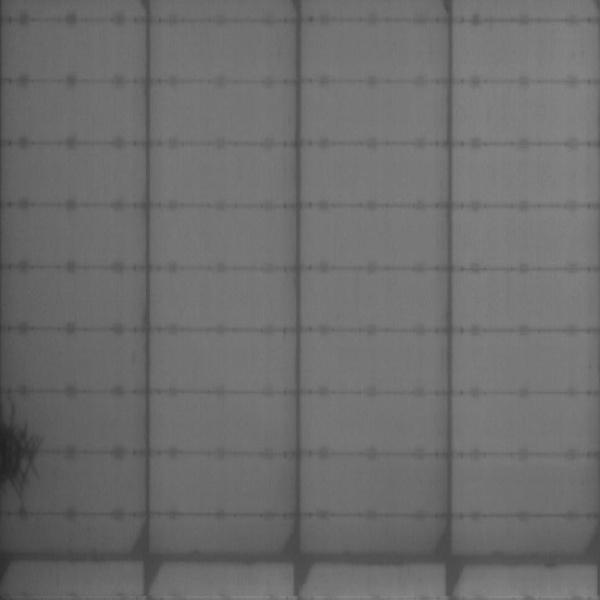broken: (1, 395, 37, 497)
